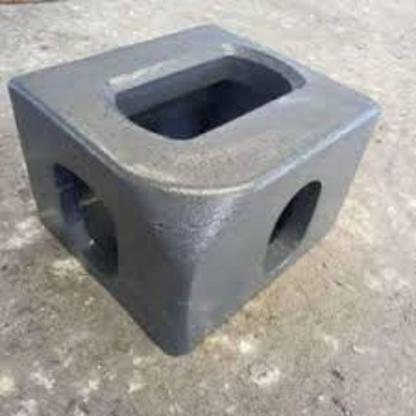CornerCasting: (6, 15, 383, 358)
